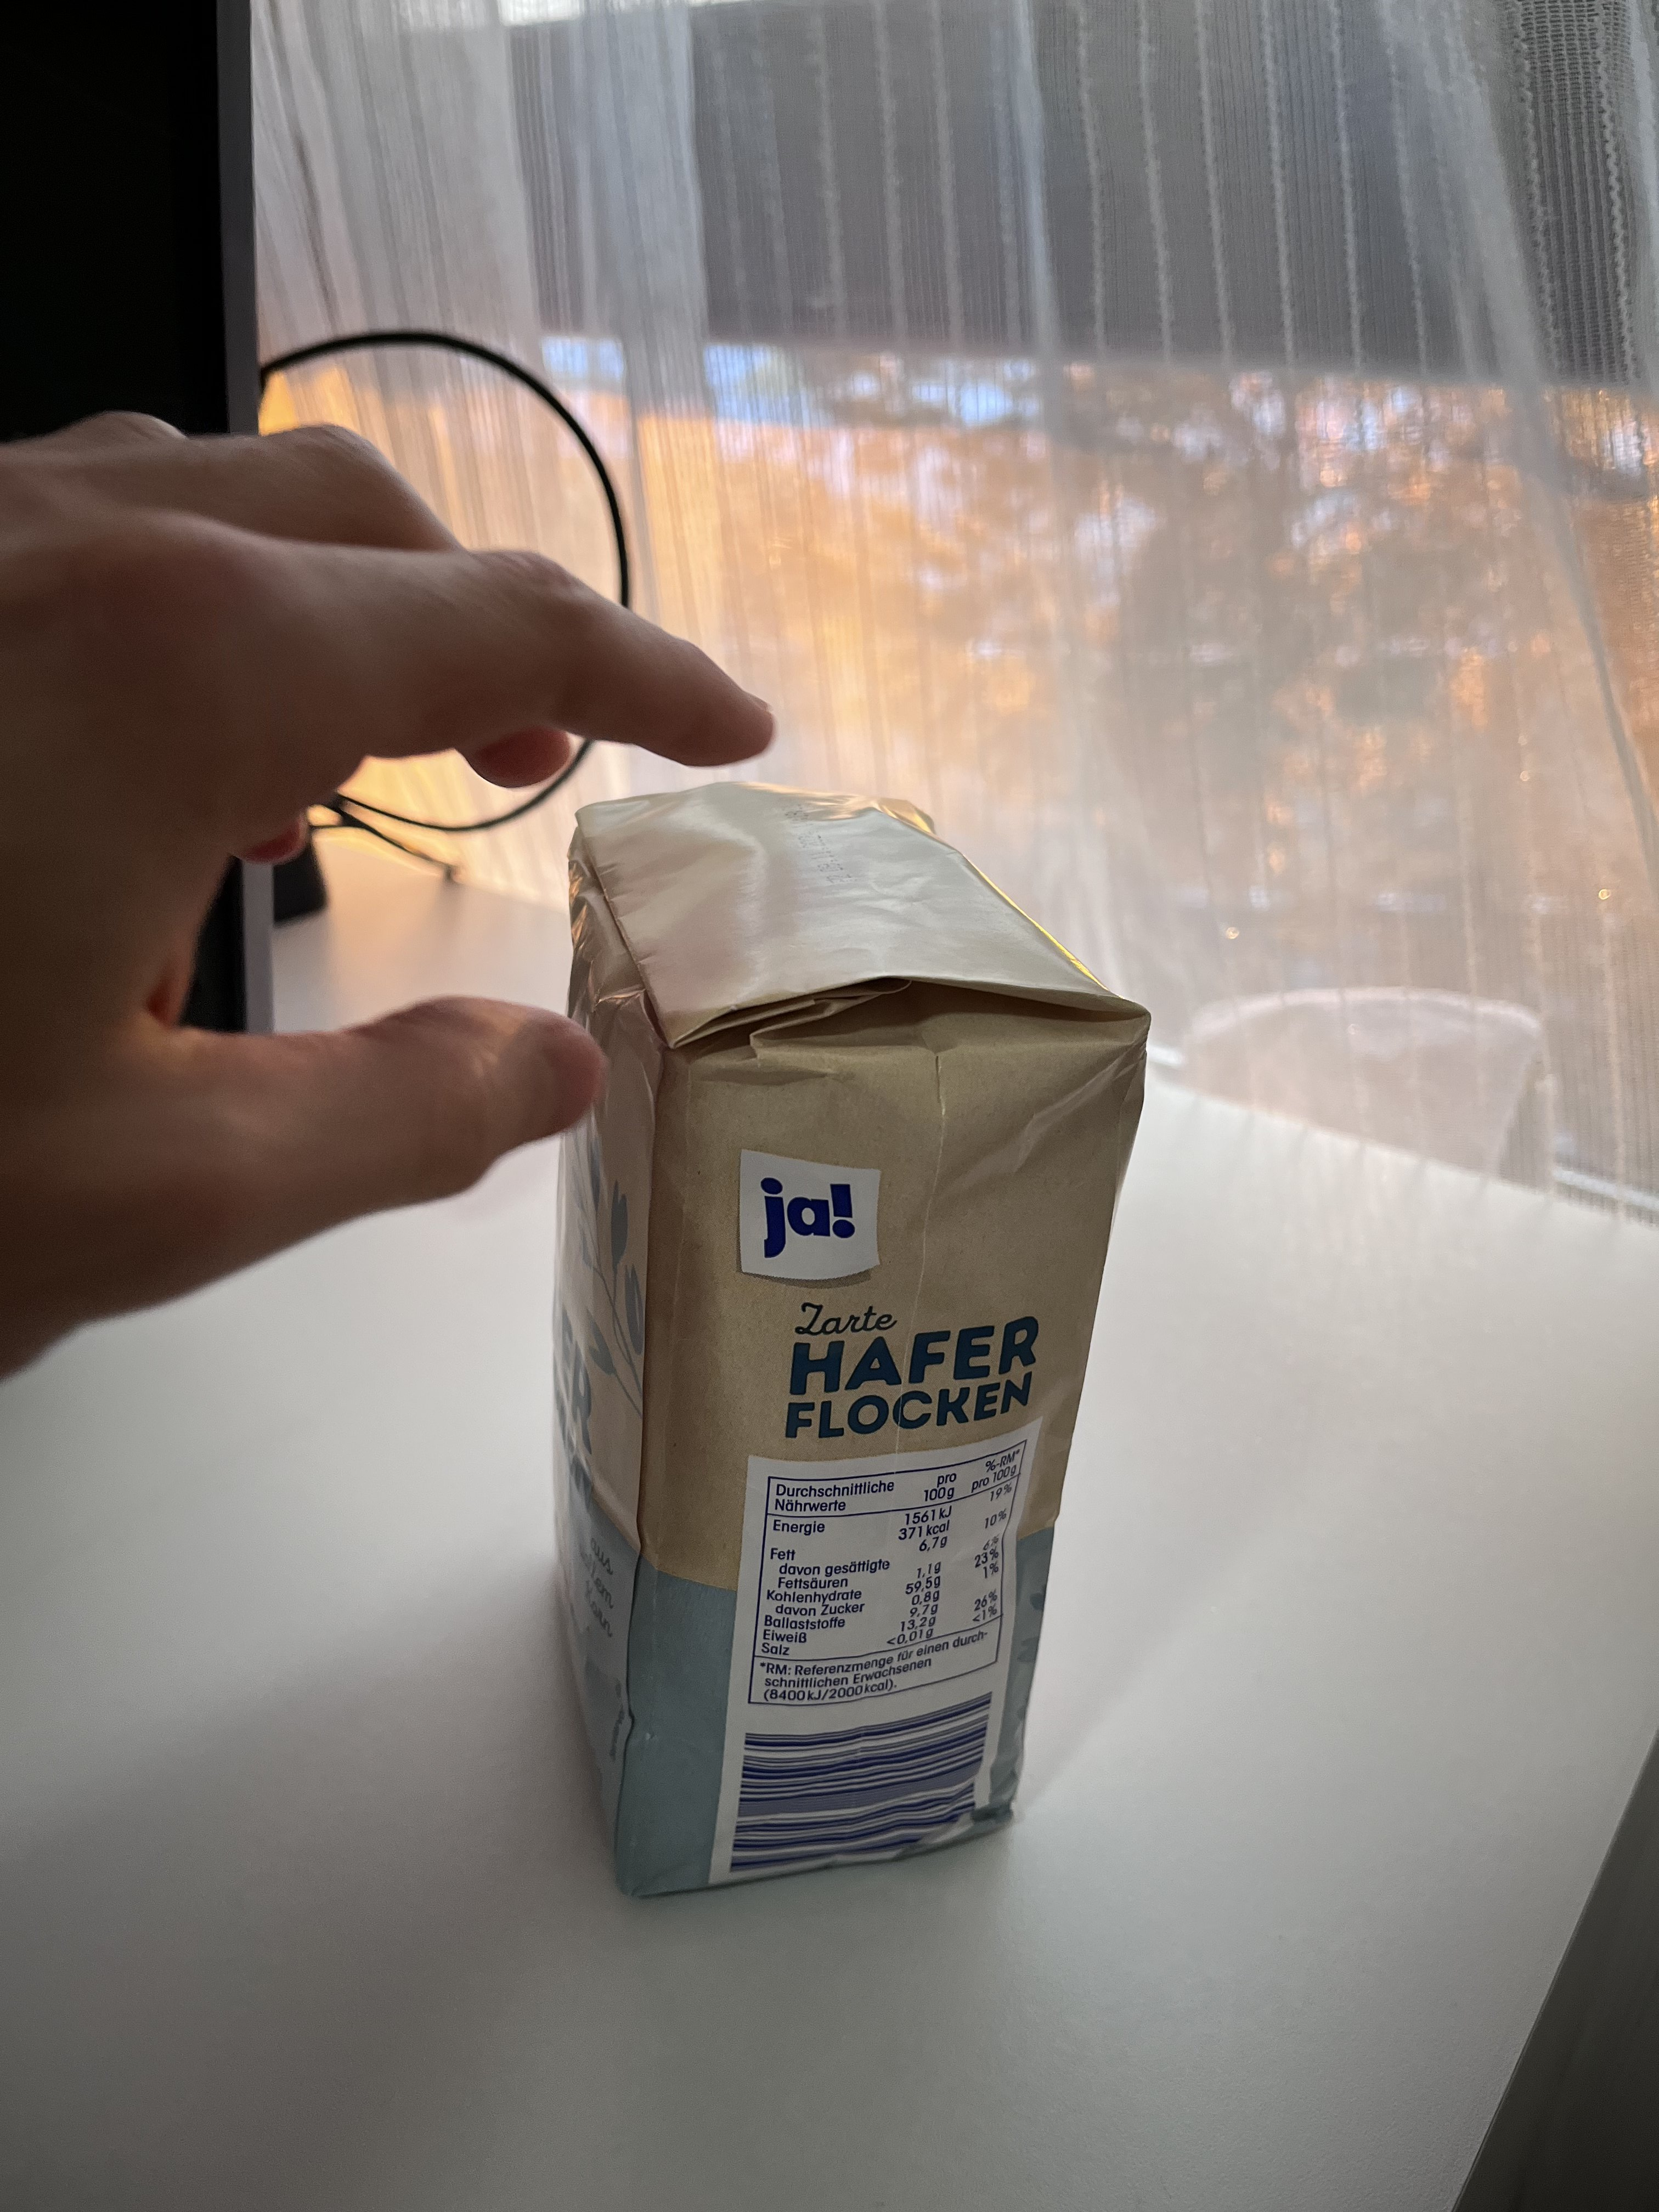haferflocken_ja: (537, 779, 1152, 1911)
